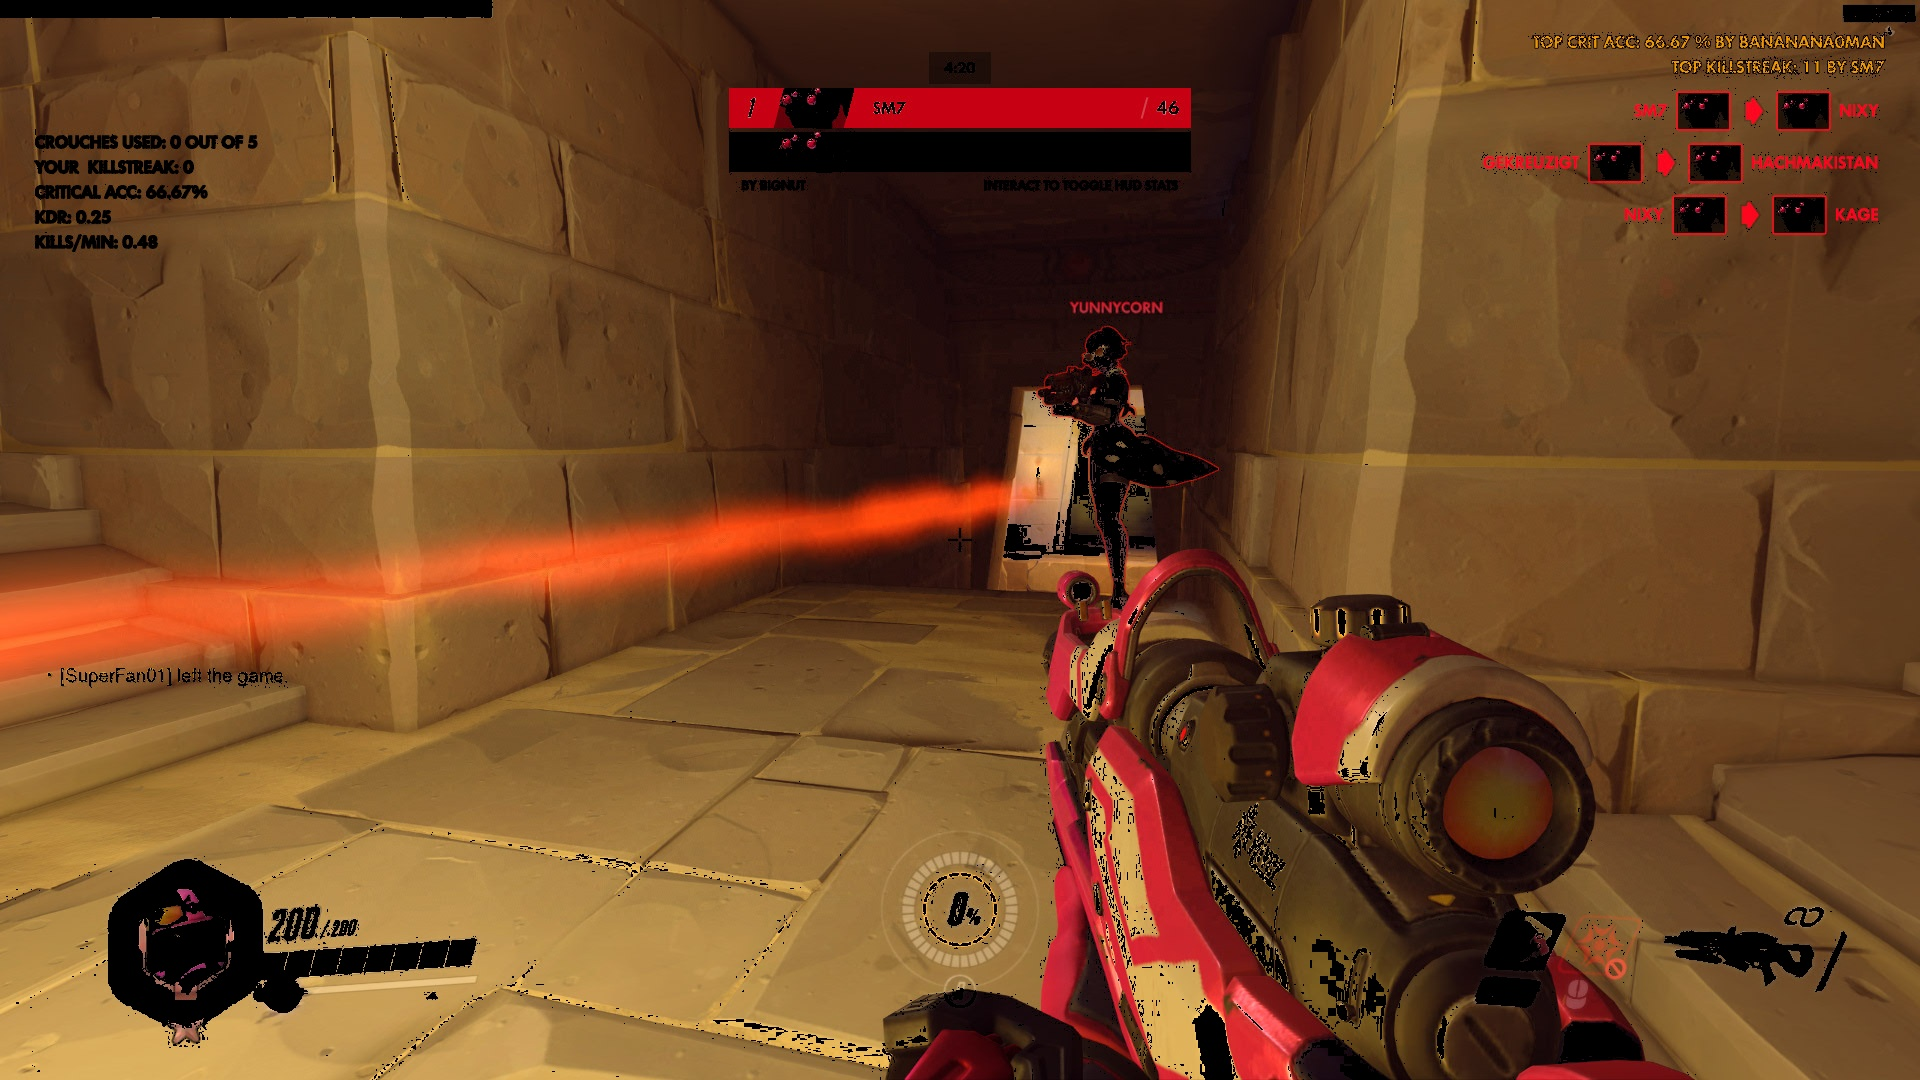widowmaker: (1058, 324, 1155, 612)
